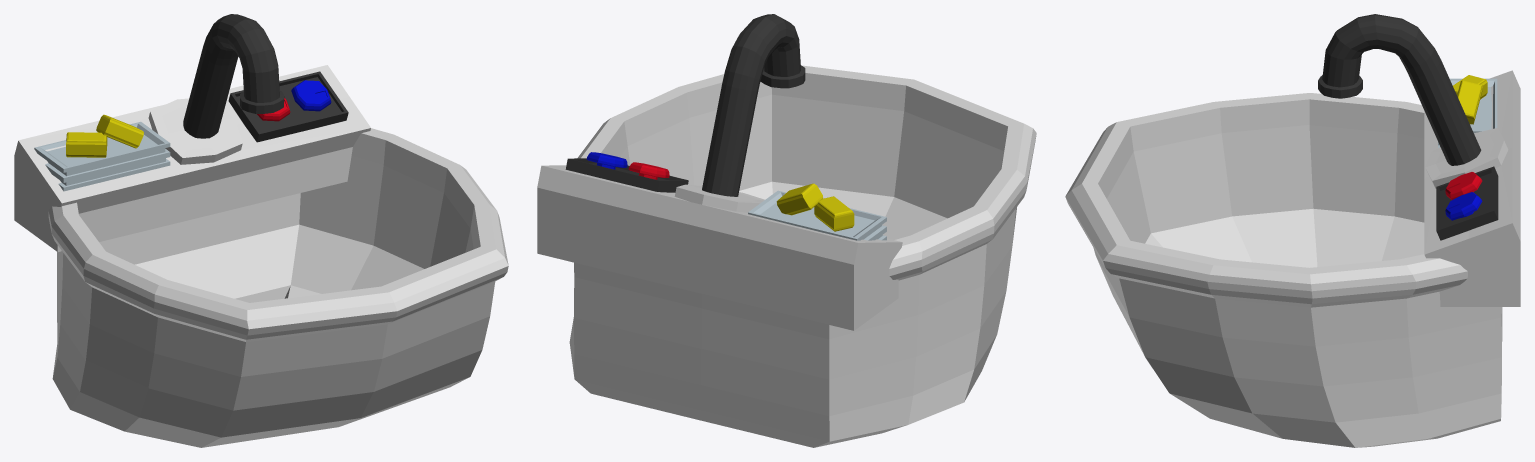
File: Sink.fbx
3 renders of one model, left to right at view 1: azimuth 30°, elevation 25°; view 2: azimuth 150°, elevation 25°; view 3: azimuth 270°, elevation 25°, orthographic. The views are drawn at different scales.
Parts seen in each view (by area): view 1: Cube.001; view 2: Cube.001; view 3: Cube.001.
Boxes of the visible parts, bbox=[...] form: Cube.001: bbox=[14, 14, 508, 447]; Cube.001: bbox=[537, 14, 1036, 447]; Cube.001: bbox=[1065, 14, 1520, 447].
Bounding box in the file's own units: 165 × 143 × 168.
